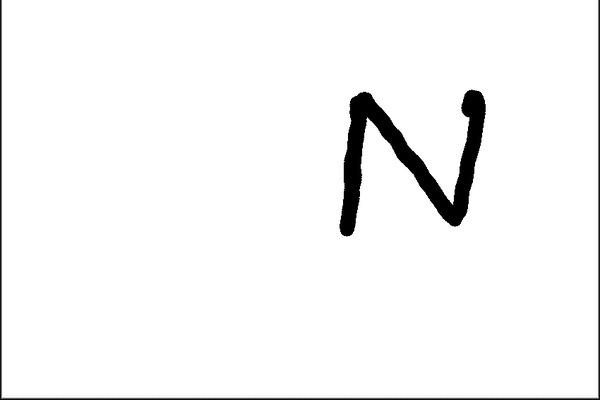N: (335, 80, 491, 244)
